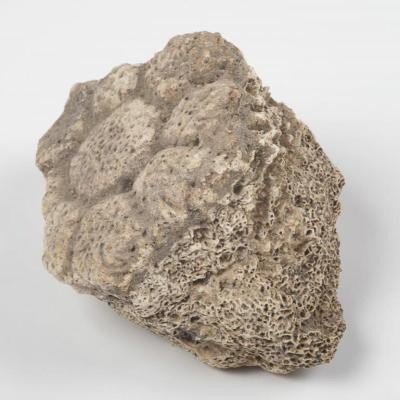natural_science_collection: (34, 32, 347, 377)
